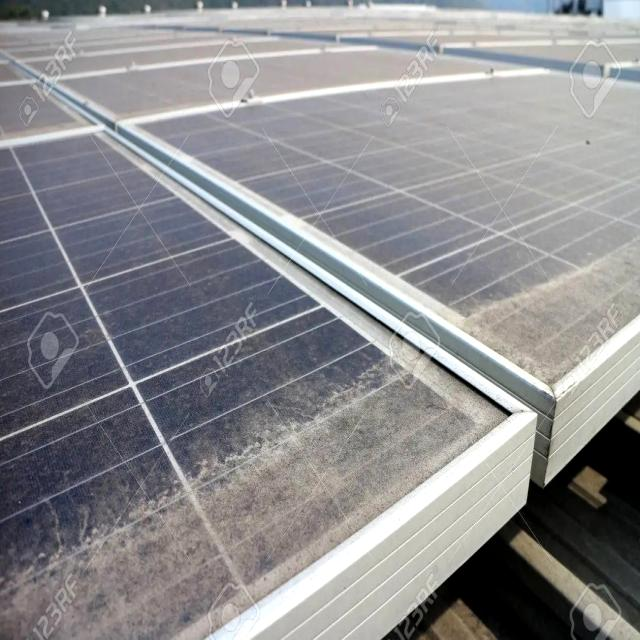dust: (304, 305, 494, 490), (65, 245, 262, 385), (358, 96, 510, 263), (0, 519, 240, 622), (39, 38, 276, 125), (546, 184, 638, 374), (274, 55, 479, 96)
